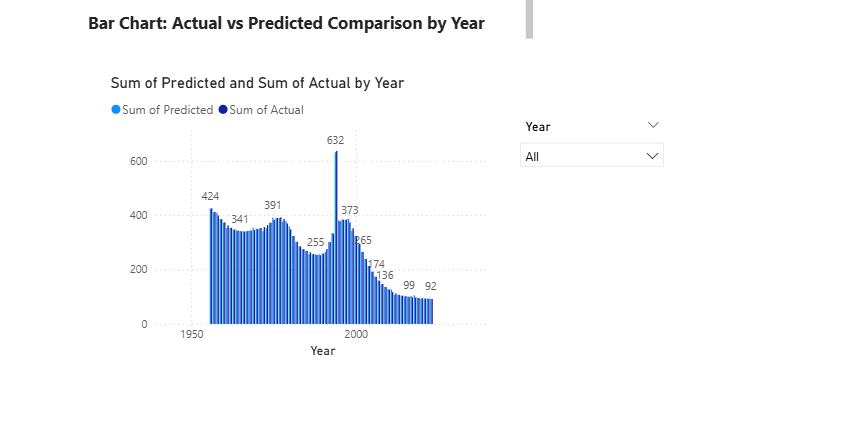

The page's visual inventory and layout, read from the dashboard file:
{"tool":"powerbi","page":{"name":"Page 2","canvas":[1280,720],"ordinal":1},"visuals":[{"type":"clusteredColumnChart","fields":{"Category":["Rwanda_Infant_Mortality_FINAL.Year"],"Y":["Sum(Rwanda_Infant_Mortality_FINAL.Predicted)","Sum(Rwanda_Infant_Mortality_FINAL.Actual)"]},"box":[130,92,443,321],"z":0},{"type":"textbox","box":[104,0,505,63],"z":1},{"type":"slicer","fields":{"Values":["Rwanda_Infant_Mortality_FINAL.Year"]},"box":[580,134,180,95],"z":2}]}

Visuals, with their boxes on the page's 1280x720 design canvas (x1, y1, x2, y2). These are canvas units, not pixel positions in the 844x446 screenshot, which may show the page scaled, cropped or inside an application window:
clusteredColumnChart - Rwanda_Infant_Mortality_FINAL.Year x Sum(Rwanda_Infant_Mortality_FINAL.Predicted): x1=130 y1=92 x2=573 y2=413
textbox: x1=104 y1=0 x2=609 y2=63
slicer - Rwanda_Infant_Mortality_FINAL.Year: x1=580 y1=134 x2=760 y2=229
